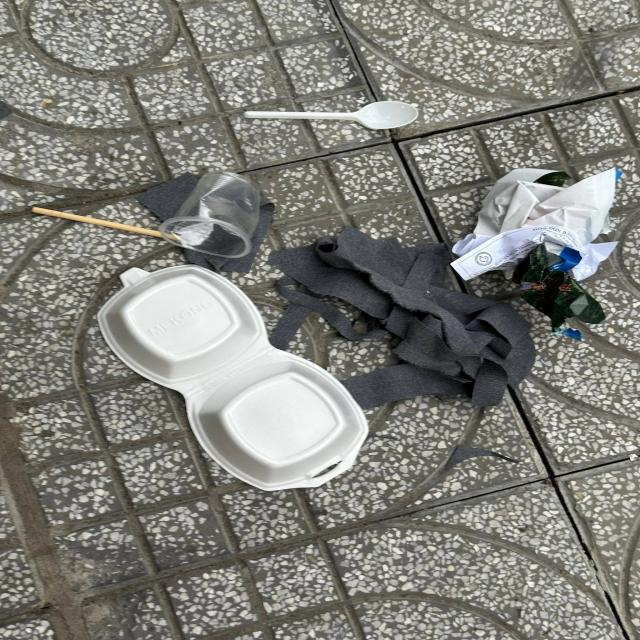clothes: (268, 225, 536, 407)
foam box: (98, 264, 370, 494)
paper: (448, 166, 620, 282), (513, 240, 606, 342)
plastic glass: (158, 170, 261, 259)
plastic utensil: (244, 101, 418, 129)
